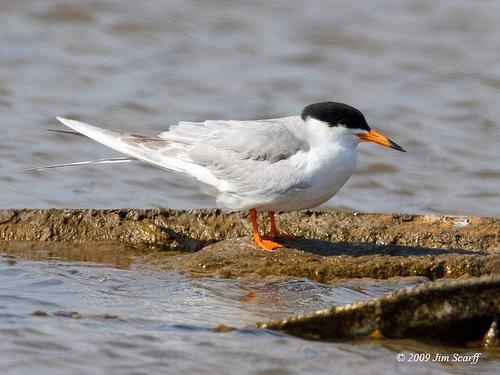bird: (16, 101, 408, 250)
